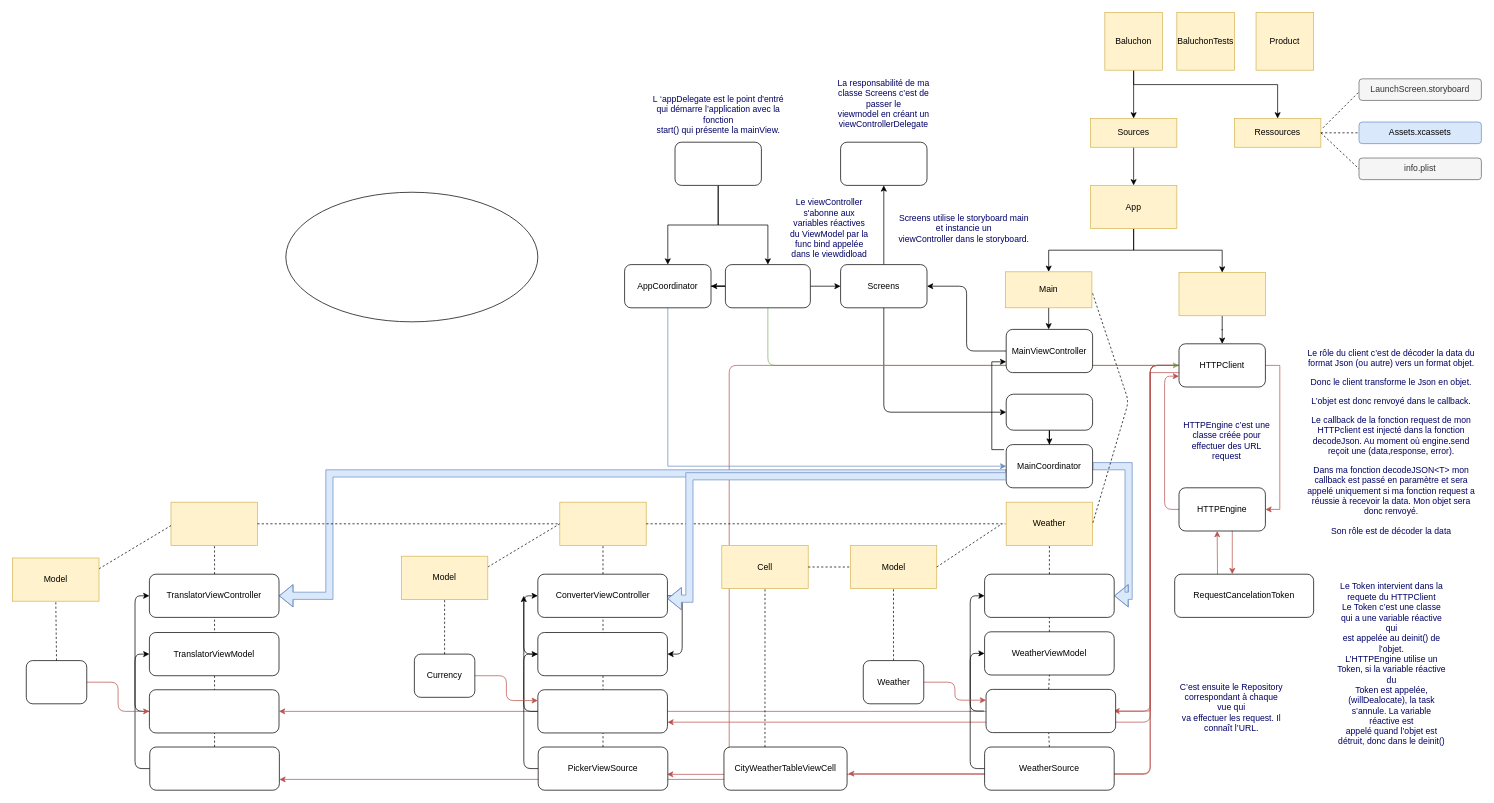
The diagram is 1494 pixels wide and 803 high, and some of its shapes have lost their labels. The centre of each missing label's shape, as x and y in pixels:
AppDelegate: [717,163]
Architecture de l'application Baluchon: [411,257]
Context: [767,286]
Converter: [602,523]
ConverterRepository: [602,711]
ConverterViewModel: [602,654]
Language: [56,682]
Main.storyboard: [883,163]
MainViewModel: [1049,411]
Network: [1221,294]
Translator: [213,523]
TranslatorRepository: [214,711]
TranslatorSource: [214,768]
WeatherRepository: [1050,711]
WeatherViewController: [1049,595]
